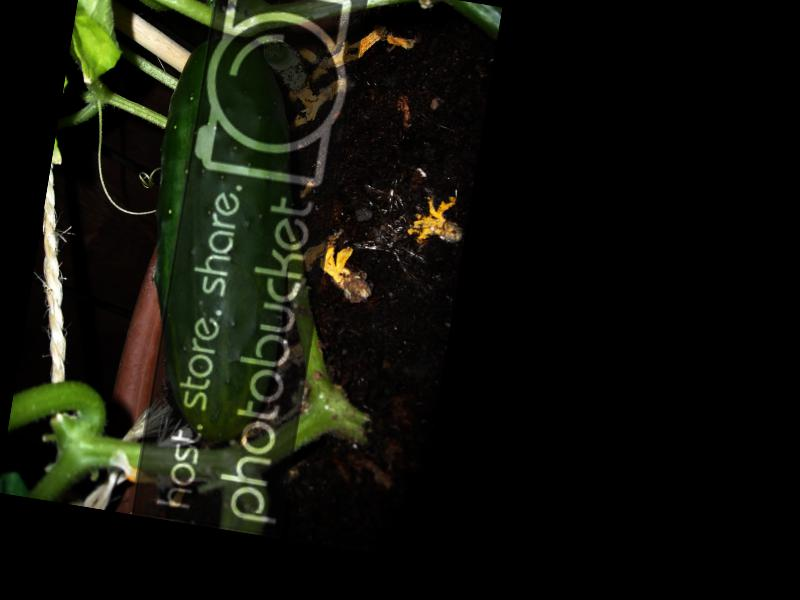Cucumber: (118, 30, 328, 449)
